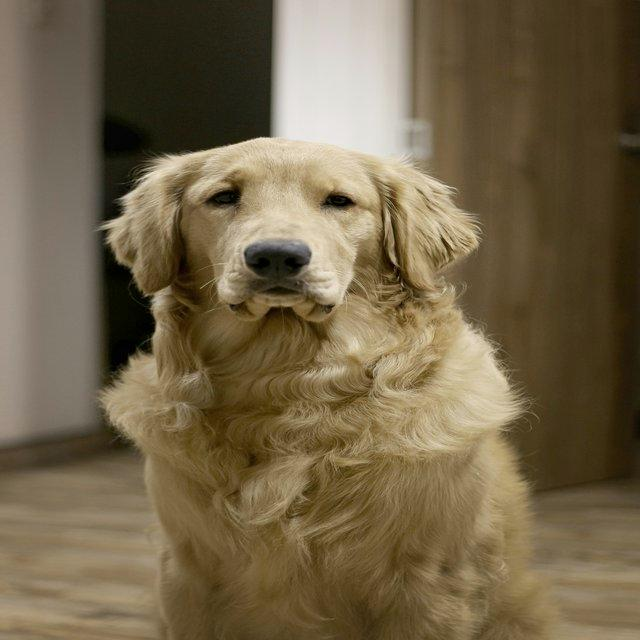retriever: (97, 134, 562, 638)
